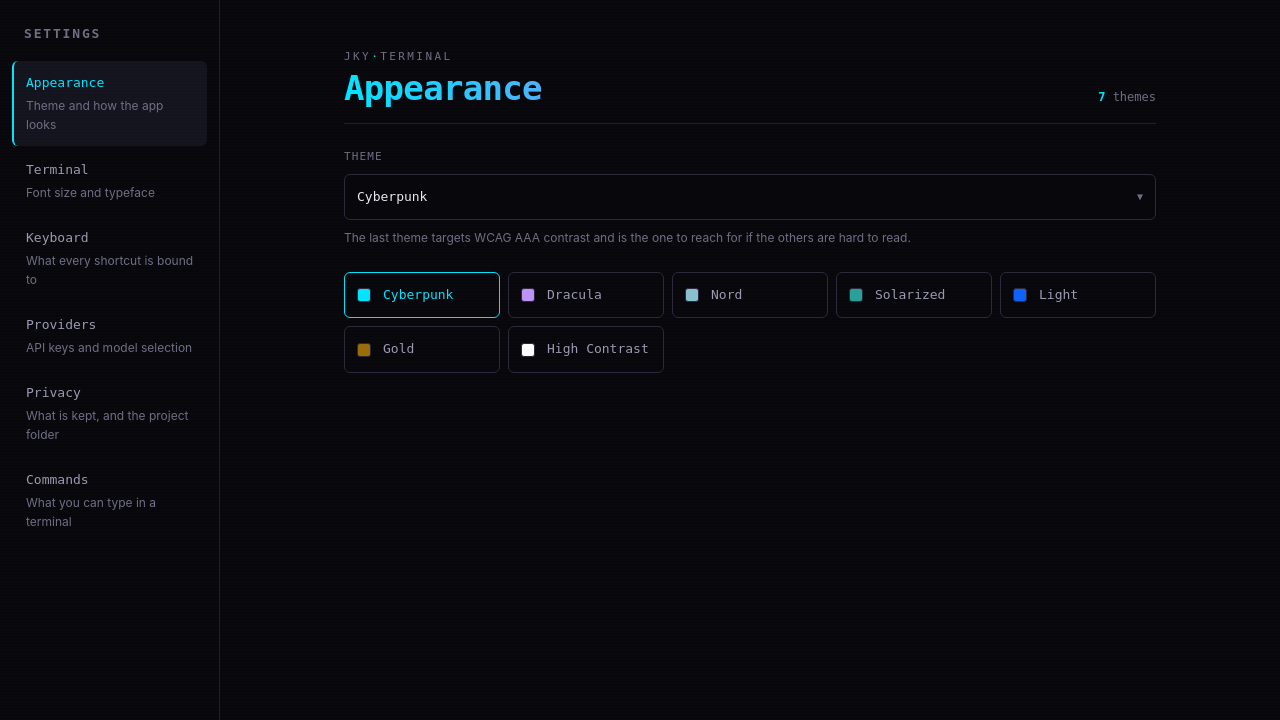
Test case: the Privacy panel › shows that everything is kept by default
The width and height of the screenshot is (1280, 720).
What coordinates should you click on to do the following:
click the button "Privacy What is kept, and the project folder"
I would click on:
 (110, 414)
Its box is [12,371,207,456].
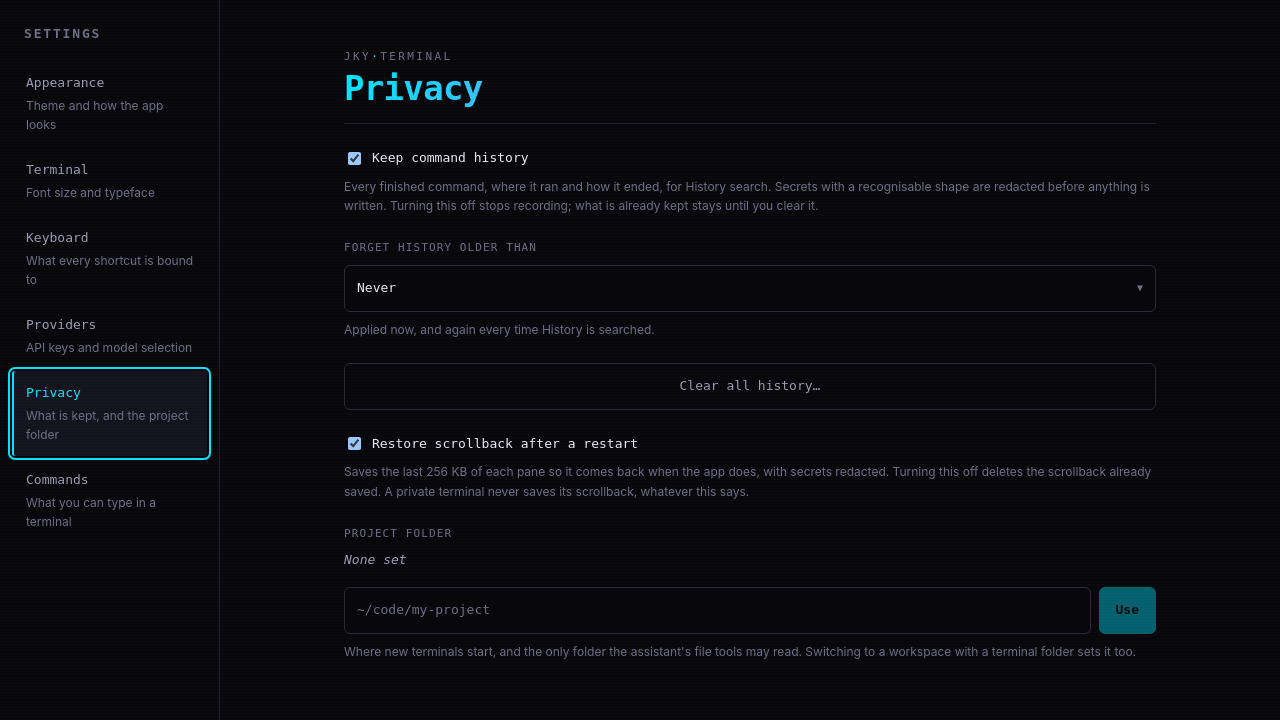
Now the heading "Privacy" is shown, box [344,70,1140,107]
Now the checkbox labelled "Keep command history" is checked, box [348,152,361,165]
Now the checkbox labelled "Restore scrollback after a restart" is checked, box [348,437,361,450]
